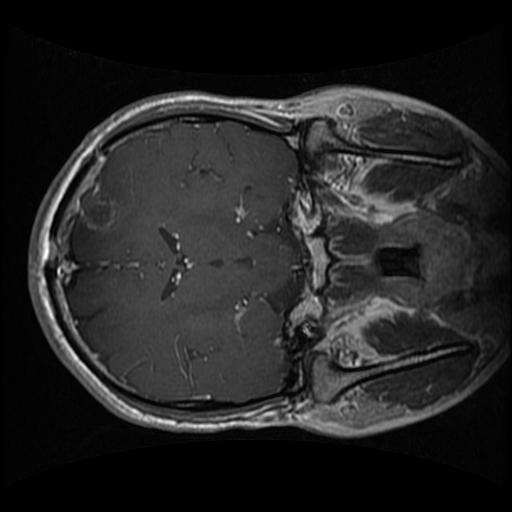glioma: (74, 186, 120, 236)
